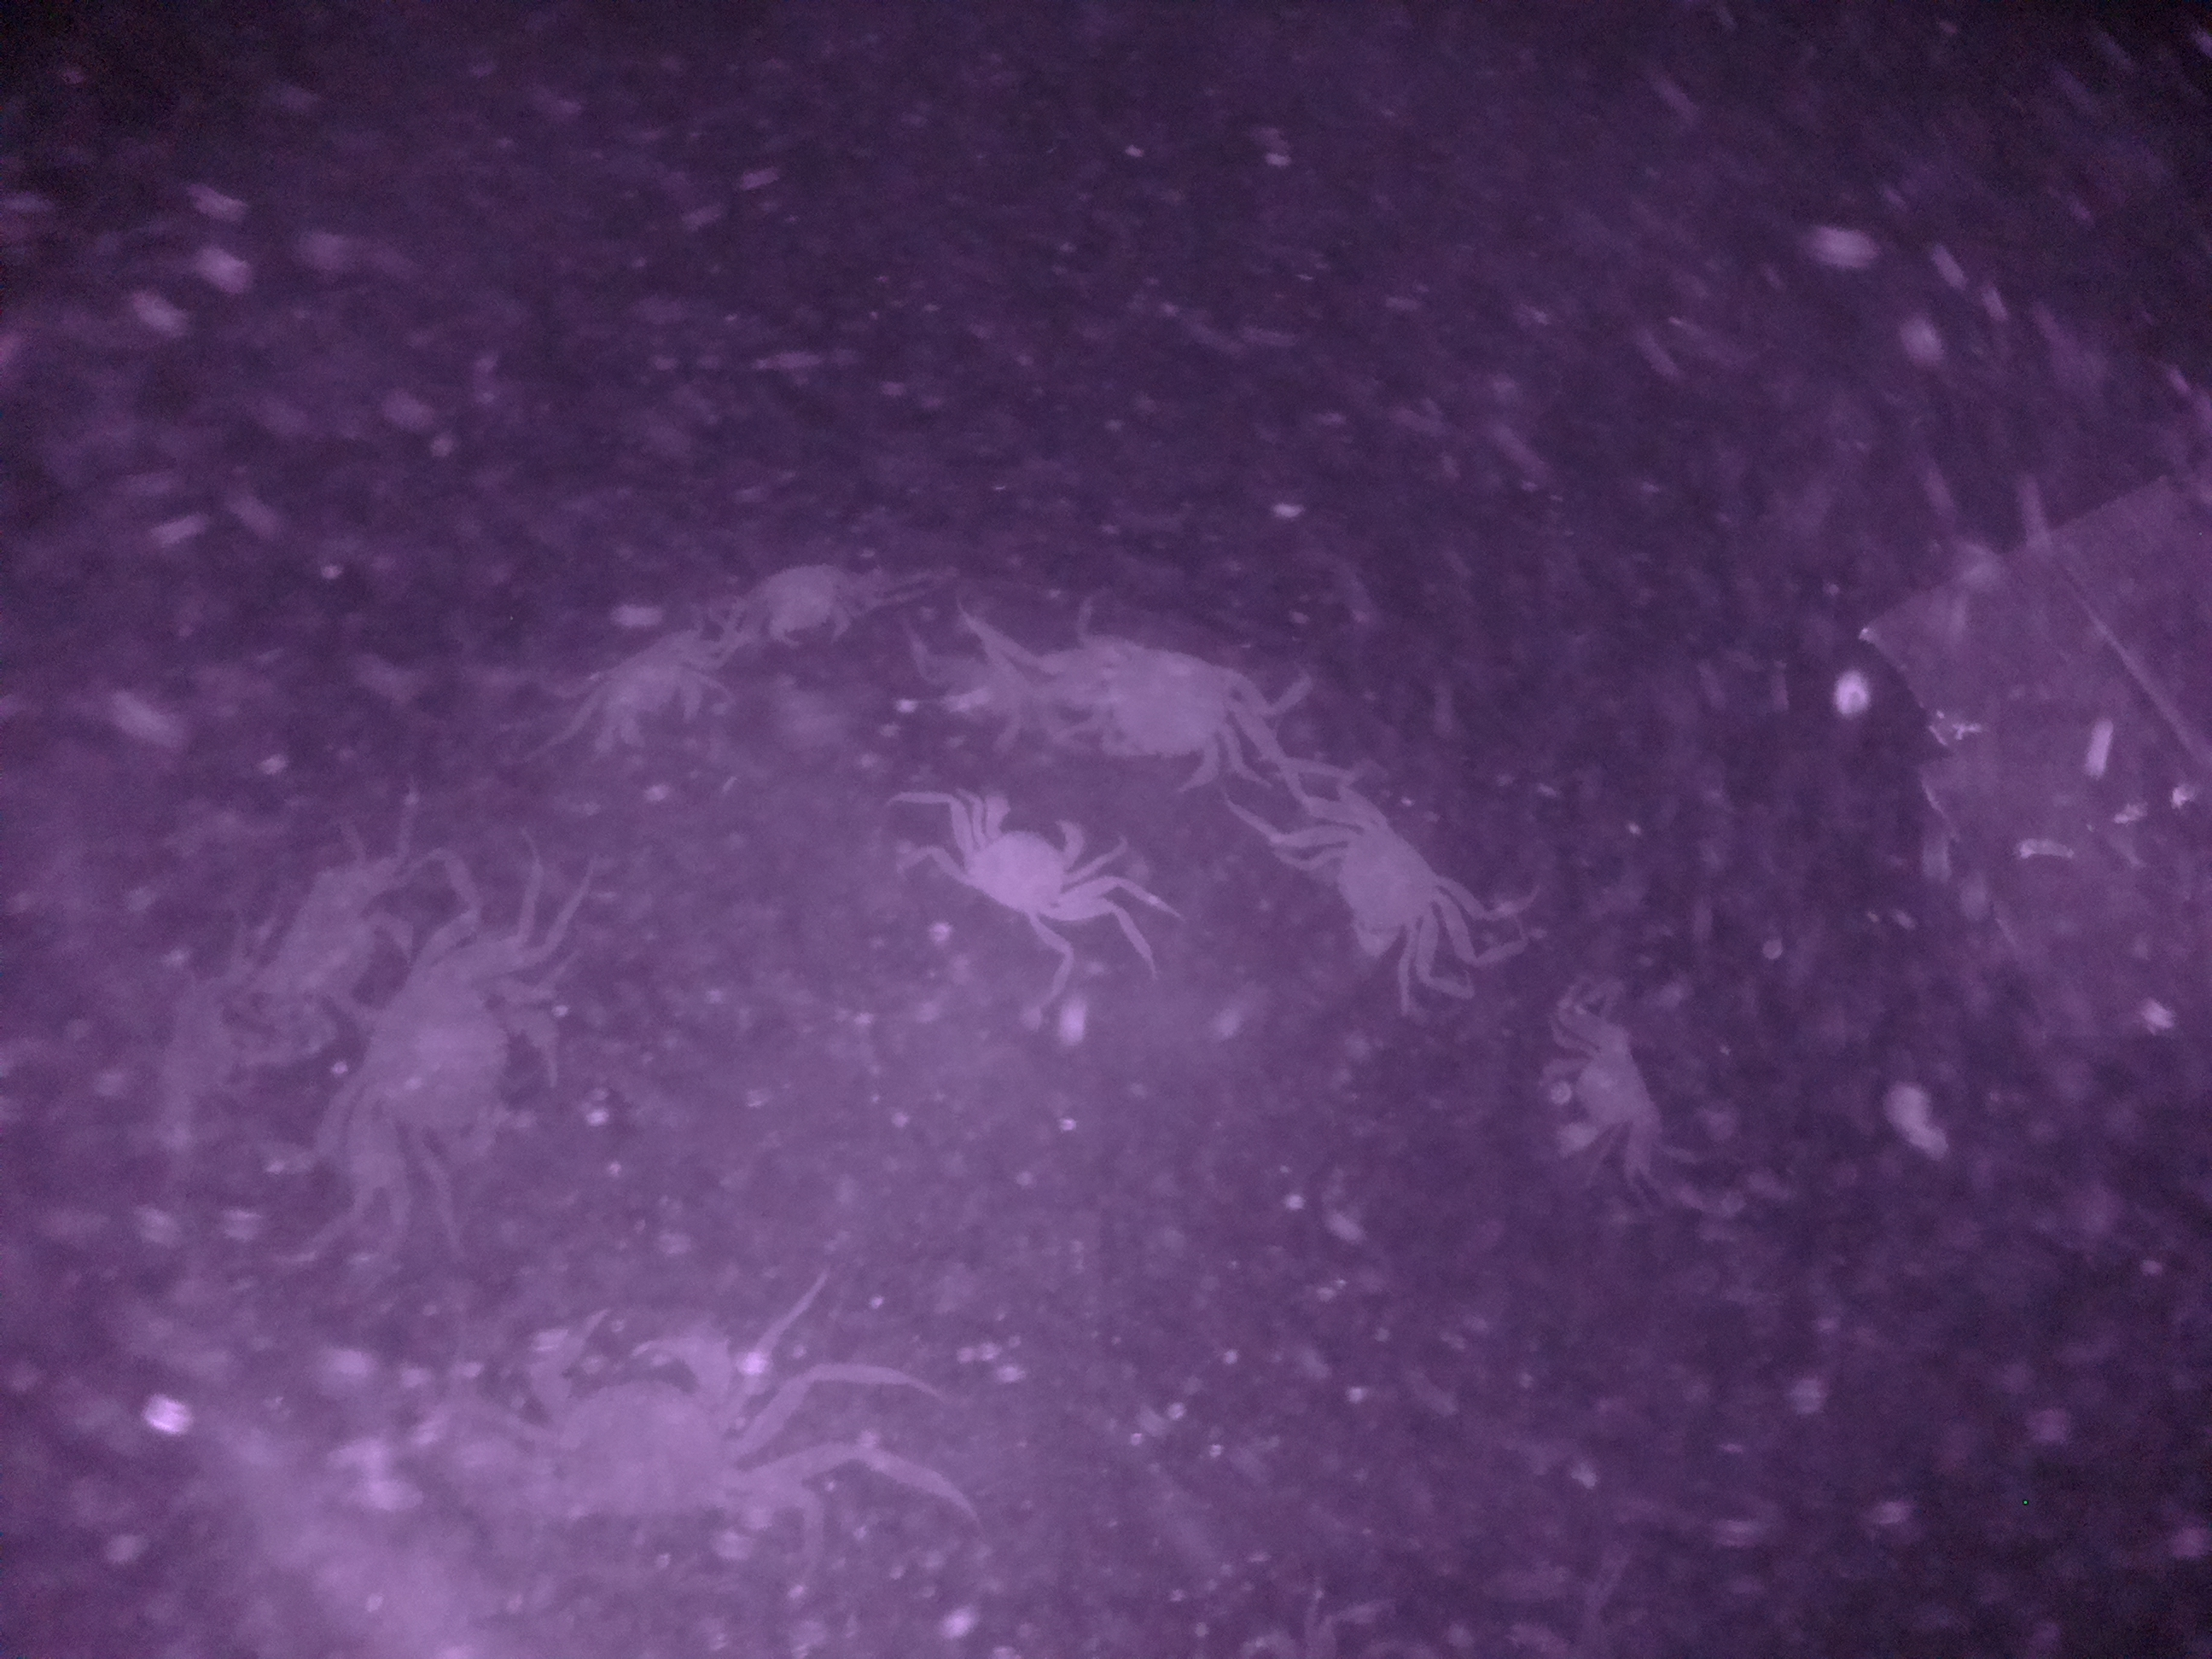Crab: (921, 774, 1139, 960), (1263, 774, 1468, 960)
